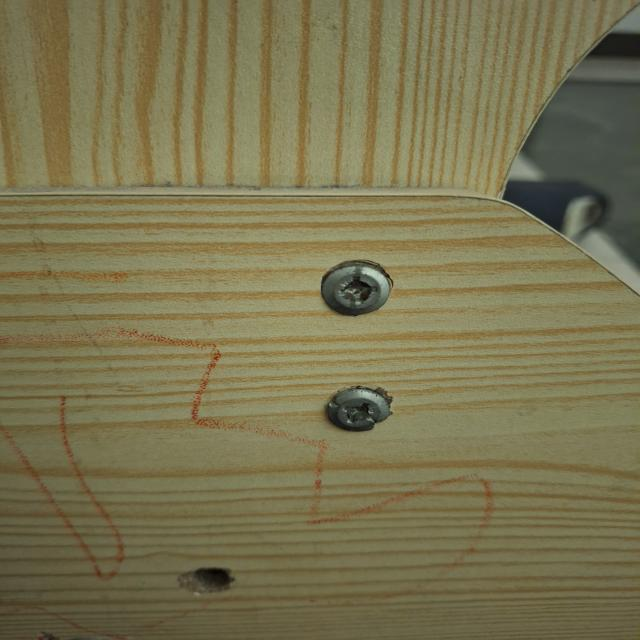Phillips: (310, 260, 396, 316), (308, 383, 397, 436)
